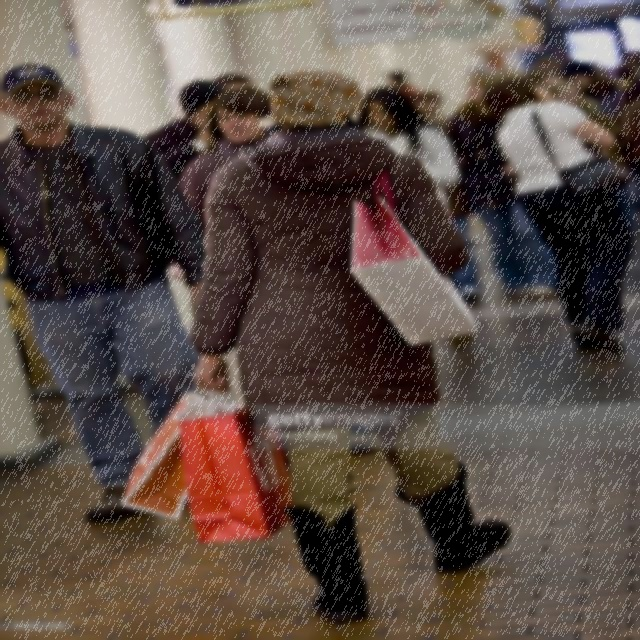pessoa: (184, 68, 518, 628), (479, 69, 639, 365), (323, 80, 472, 378), (444, 64, 561, 302), (178, 85, 316, 224), (540, 59, 638, 122), (415, 90, 457, 120), (211, 74, 254, 90), (382, 69, 412, 89)
